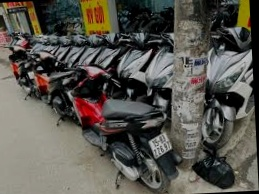Bien-so: (150, 139, 177, 168)
